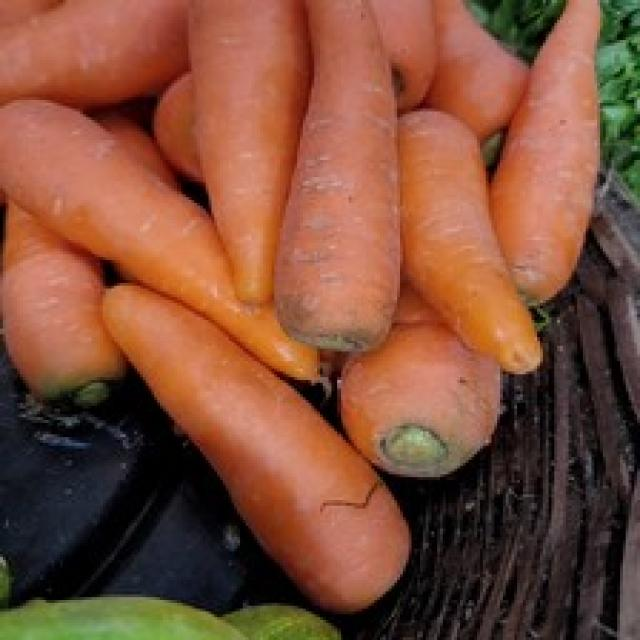Fresh_Carrot: (0, 67, 347, 370), (104, 272, 424, 591), (368, 95, 554, 379), (302, 0, 414, 367), (503, 0, 631, 309)
